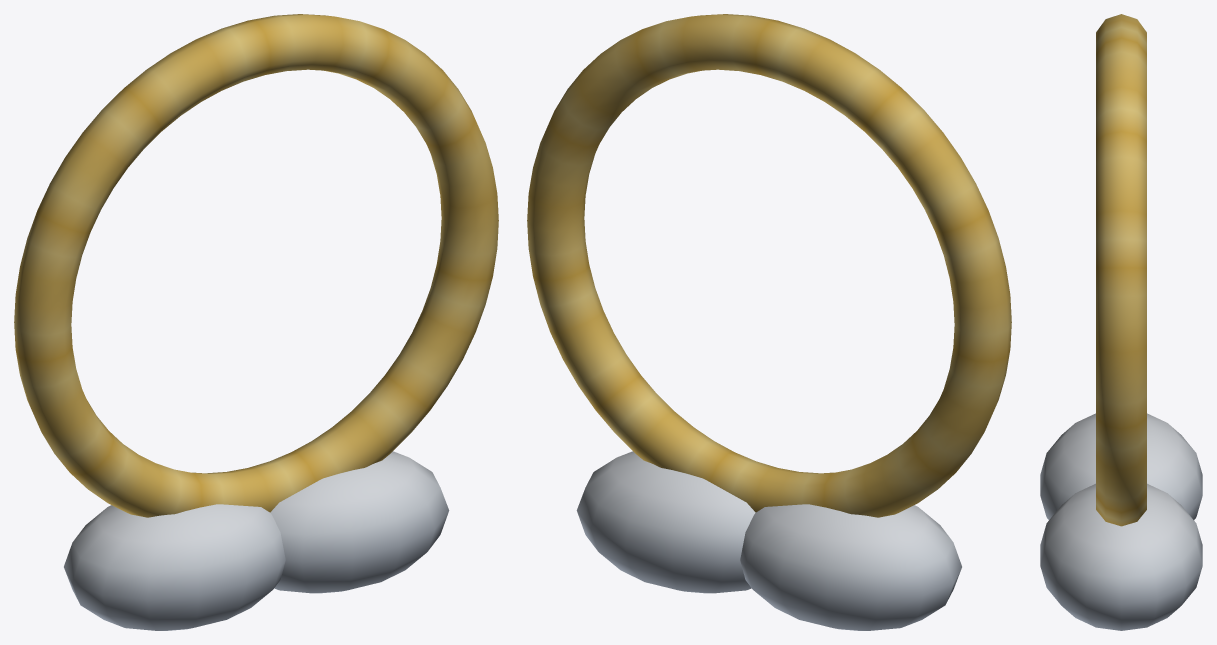
File: Xmas_WarpRing.fbx
The picture shows the model from 3 angles, left to right: view 1: azimuth 30°, elevation 25°; view 2: azimuth 150°, elevation 25°; view 3: azimuth 270°, elevation 25°; orthographic projection. The views are drawn at different scales.
Visible parts, largest first — view 1: Xmas_WarpRing; view 2: Xmas_WarpRing; view 3: Xmas_WarpRing.
Boxes of the visible parts, <box> form: Xmas_WarpRing: <box>14,14,498,630</box>; Xmas_WarpRing: <box>527,14,1011,630</box>; Xmas_WarpRing: <box>1040,14,1202,630</box>.
Size of the model in its own units: 8.04 by 9.32 by 2.53.
